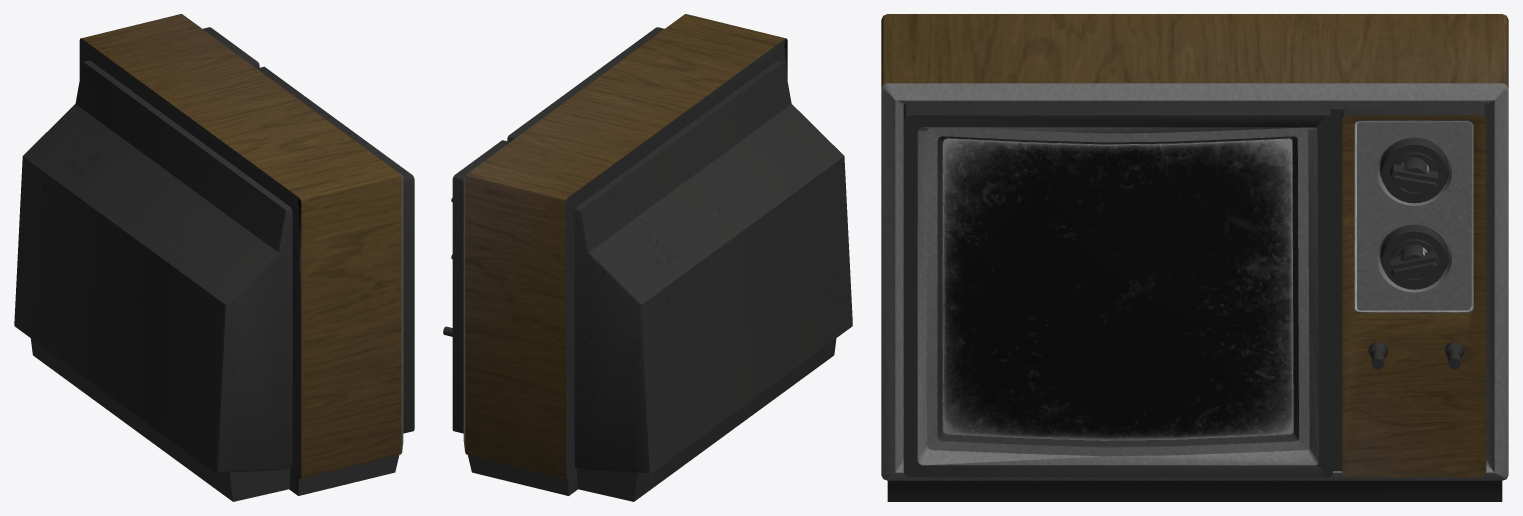
3 renders of one model, left to right at view 1: azimuth 30°, elevation 25°; view 2: azimuth 150°, elevation 25°; view 3: azimuth 270°, elevation 25°, orthographic. The views are drawn at different scales.
Visible parts, largest first — view 1: Televisor; view 2: Televisor; view 3: Televisor.
Boxes of the visible parts, x1,y1,x2,y2 form: Televisor: (14, 14, 414, 501); Televisor: (443, 14, 852, 501); Televisor: (881, 14, 1508, 501).
Bounding box in the file's own units: 2.69 × 3.56 × 4.8.
Materials: 1 (1 with a texture image).
